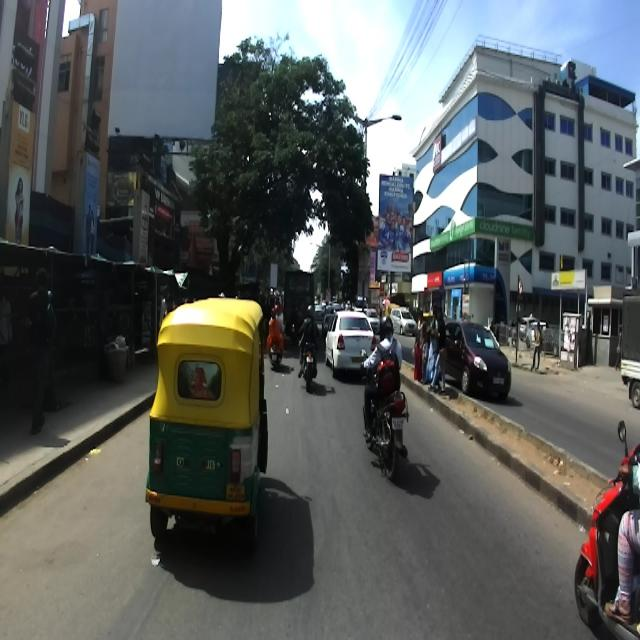autorickshaw: (144, 295, 268, 546)
car: (438, 316, 511, 402), (323, 306, 378, 378)
motorcycle: (358, 346, 409, 479)
scooter: (574, 419, 639, 638)
